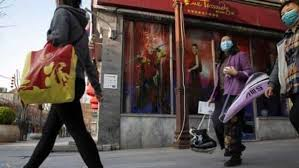mask: (279, 1, 298, 24), (216, 32, 236, 51)
